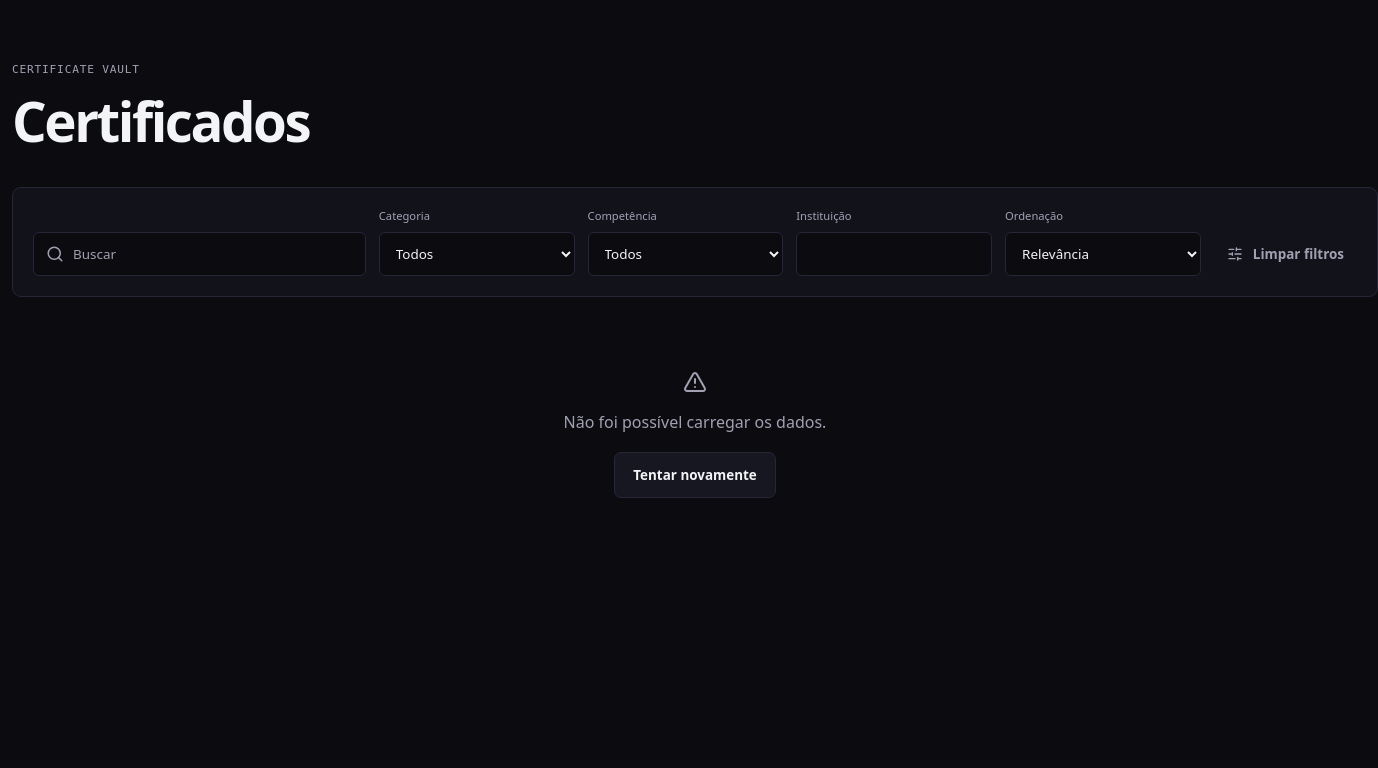
Scenario: Fluxos públicos › permite recuperação quando API falha
Expected: the message shows "Não foi possível carregar", top-left (564, 411), bottom-right (826, 433)
Click the button "Tentar novamente": (695, 475) top-left (614, 452), bottom-right (776, 498)
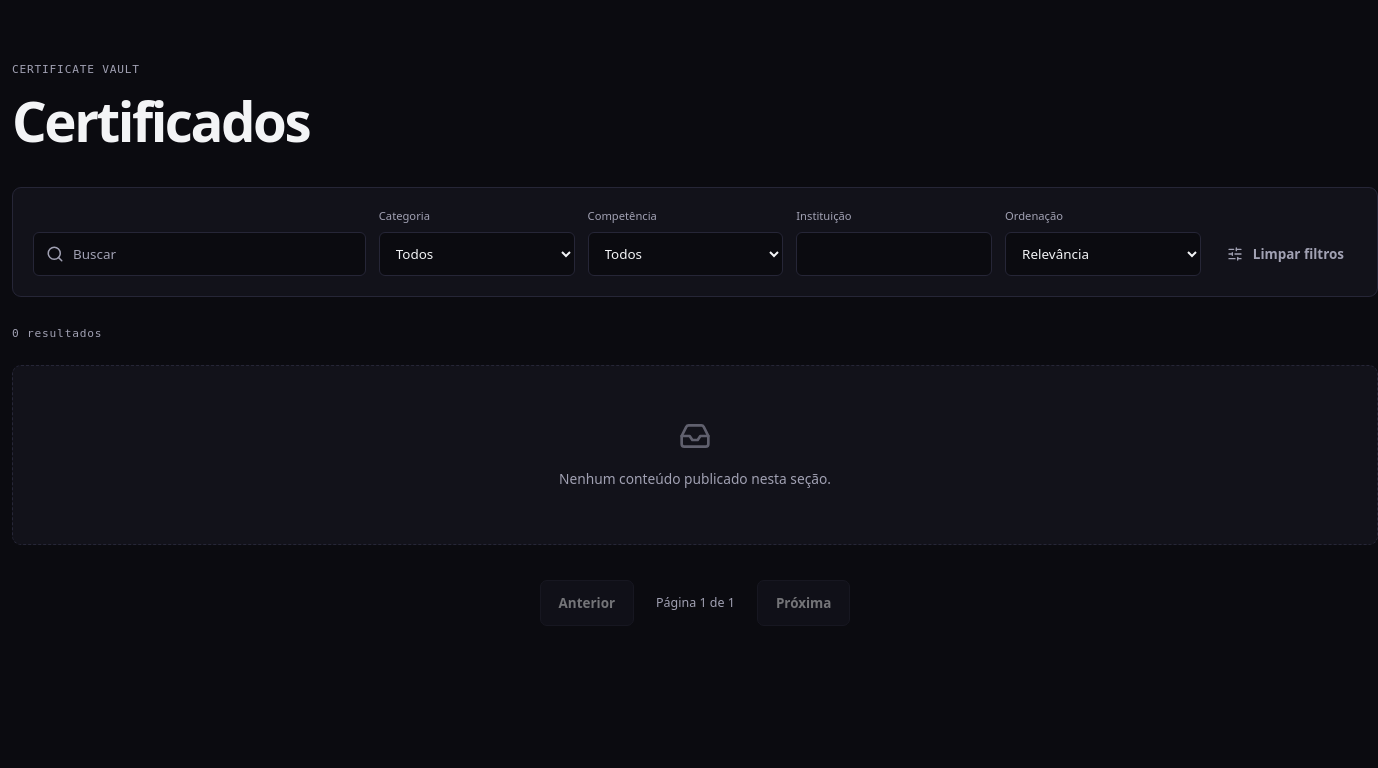
Expected: the text "Nenhum conteúdo publicado nesta seção." is shown, top-left (559, 467), bottom-right (831, 490)
